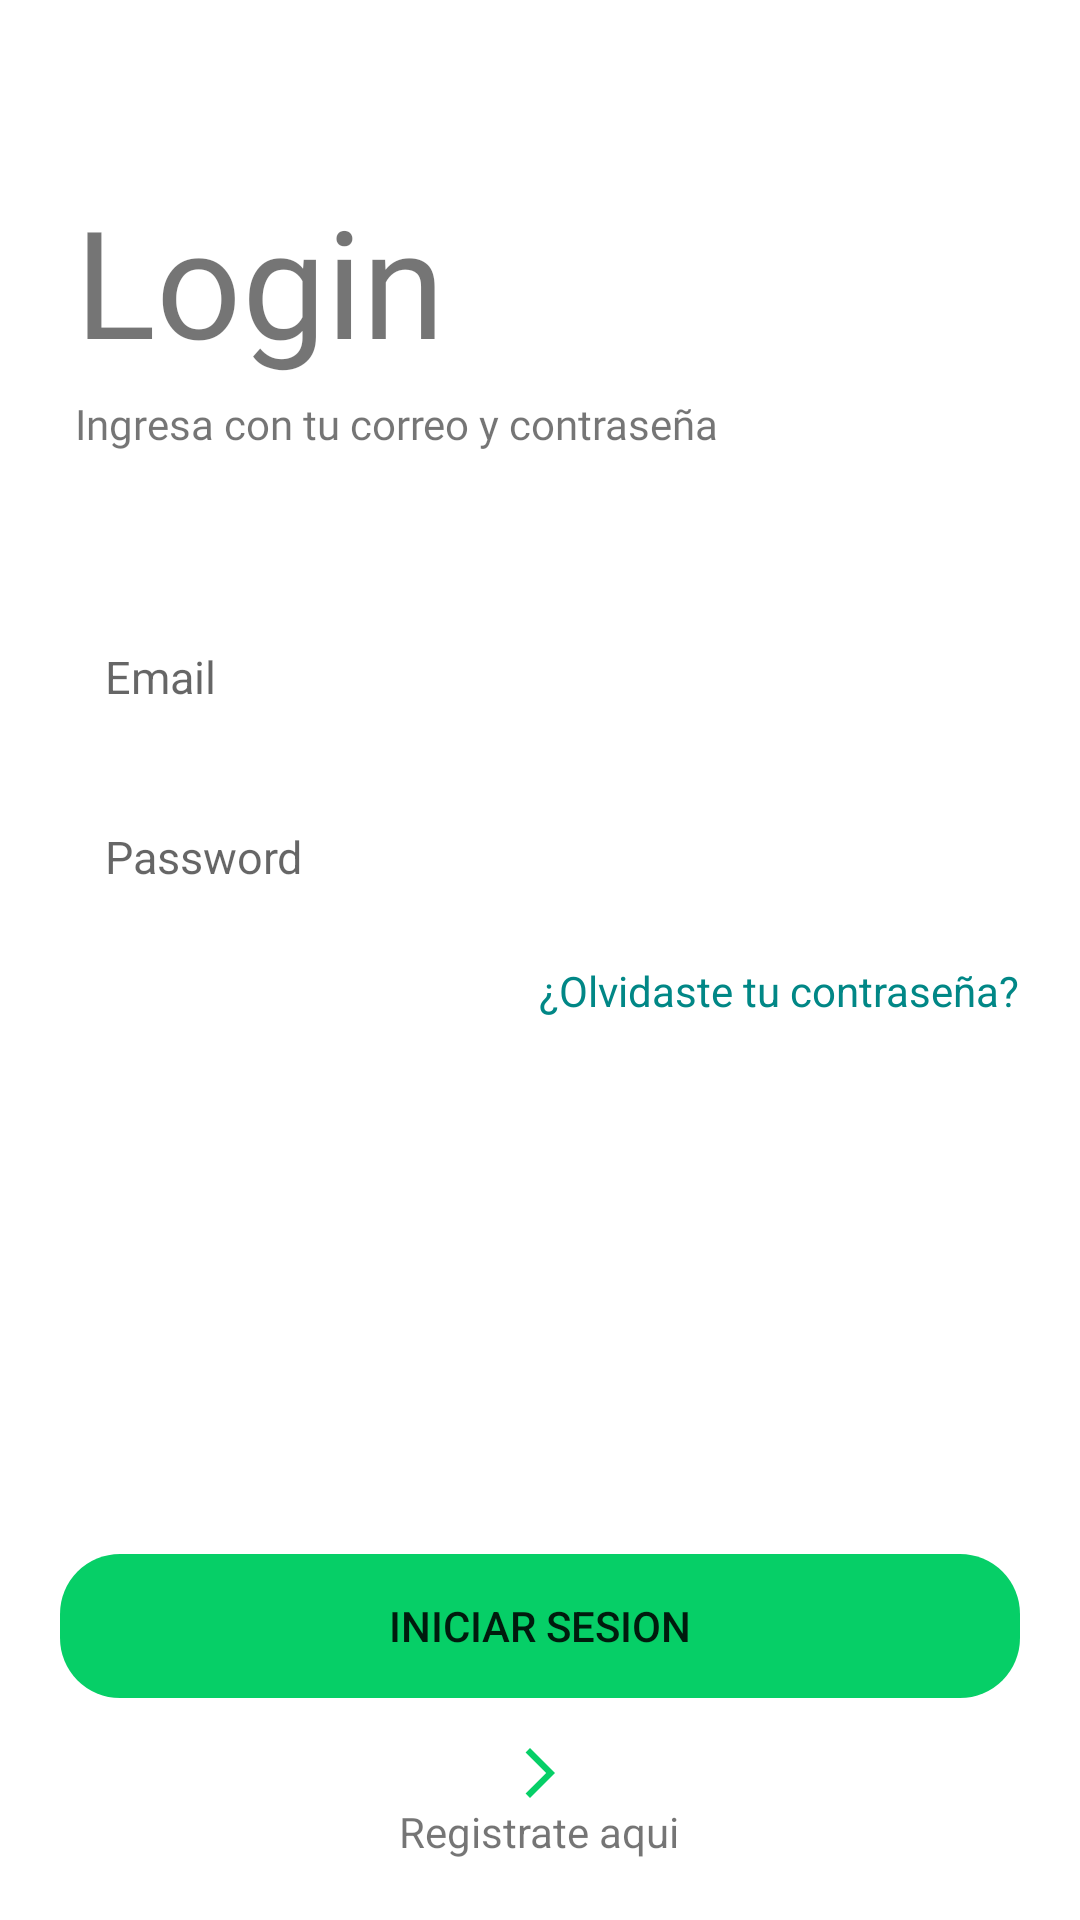

Icons on this 1080*1920 Android screen, each with the point to tap as (x=x, y=y):
arrow right: (x=540, y=1773)
